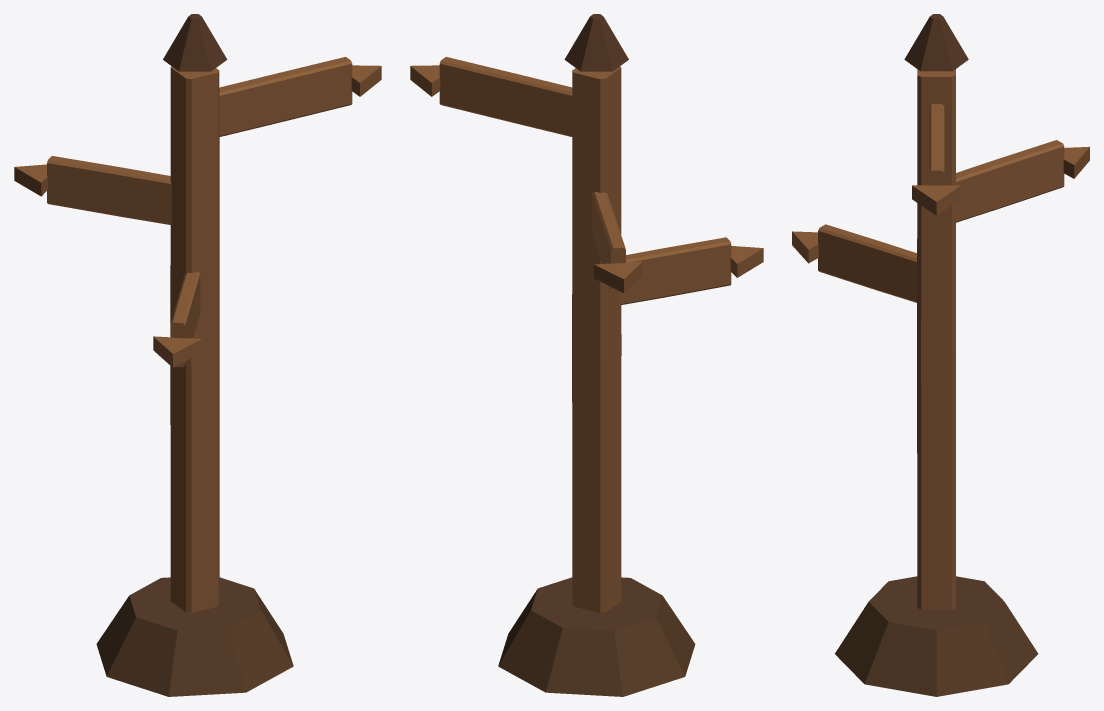
The model's file is prop_signpost_trail_a.glb.
3 renders of one model, left to right at view 1: azimuth 30°, elevation 25°; view 2: azimuth 150°, elevation 25°; view 3: azimuth 270°, elevation 25°, orthographic.
Visible parts, largest first — view 1: signpost_arm_0, signpost_cairn; view 2: signpost_arm_0, signpost_cairn; view 3: signpost_arm_0, signpost_cairn.
Boxes of the visible parts, bbox=[...] form: signpost_arm_0: bbox=[14, 56, 381, 612]; signpost_cairn: bbox=[96, 14, 293, 696]; signpost_arm_0: bbox=[410, 57, 763, 612]; signpost_cairn: bbox=[498, 14, 695, 696]; signpost_arm_0: bbox=[792, 69, 1089, 609]; signpost_cairn: bbox=[835, 14, 1038, 696].
Size of the model in its own units: 0.985 by 2.07 by 0.8764.
